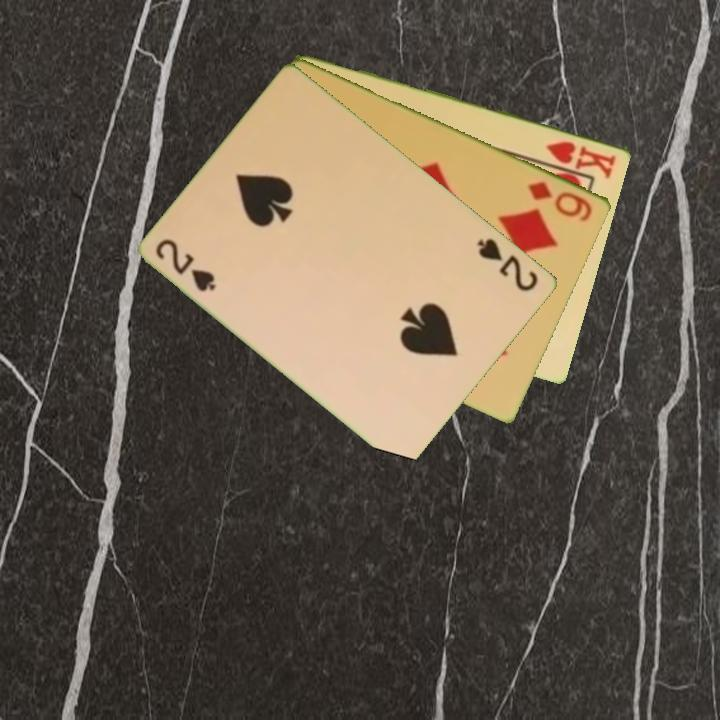2s: (473, 234, 542, 295), (152, 235, 220, 295)
6d: (525, 177, 596, 225)
Kh: (543, 137, 620, 180)
